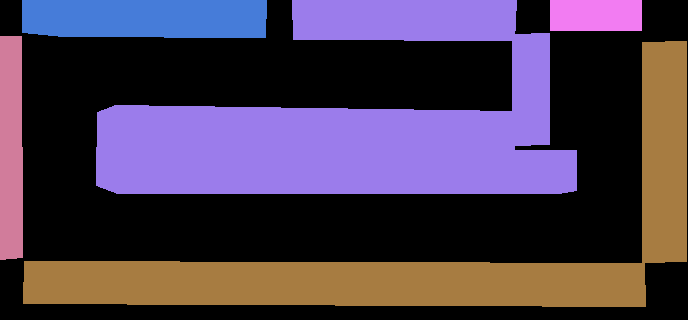parkingspot: (23, 261, 645, 306), (96, 147, 576, 193), (97, 105, 514, 150), (642, 41, 686, 262), (22, 0, 266, 37), (291, 0, 516, 40), (0, 36, 22, 259), (512, 33, 549, 145), (550, 0, 641, 30)
